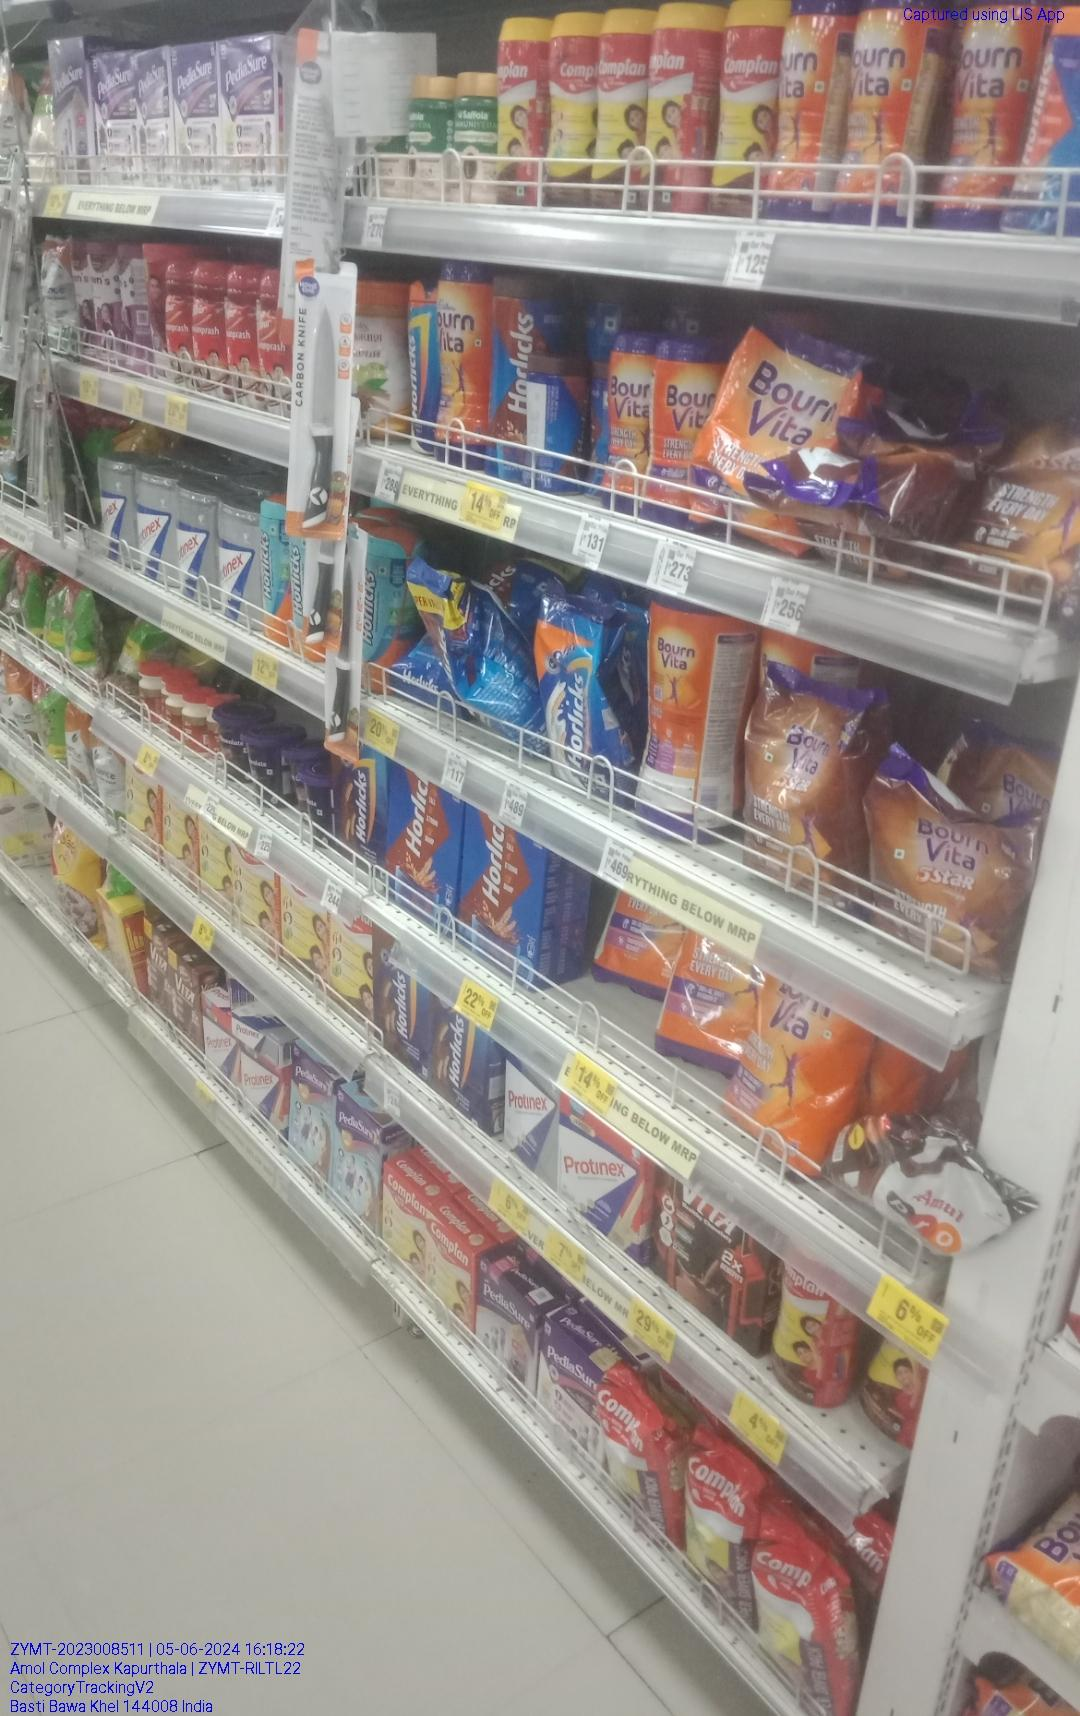BOURN_VITA_200_G_JAR: (944, 2, 1019, 235), (847, 0, 916, 228), (773, 0, 827, 223), (652, 341, 707, 531), (606, 329, 649, 514)
COMPLAN_CHOCOLATE_200_GMS_JAR: (646, 1, 712, 215), (715, 0, 771, 220), (495, 12, 546, 209), (600, 7, 646, 212), (549, 11, 595, 204)
HORLICKS_LITE_REGULAR_MALT_500_GM_JAR: (258, 499, 284, 647)
PEDIASURE_7_PLUS_CHOCOLATE_400_G_PACK: (330, 1091, 378, 1234), (290, 1050, 328, 1176)
PEDIASURE_VANILLA_500_G_PACK: (480, 1266, 536, 1404)
PROTINEX_ORIGINAL_400_G_JAR: (505, 1055, 557, 1192), (214, 495, 258, 631), (134, 464, 175, 585), (175, 484, 213, 606), (97, 457, 131, 557)
PROTINEX_VANILLA_400_G_JAR: (561, 1094, 643, 1249)
